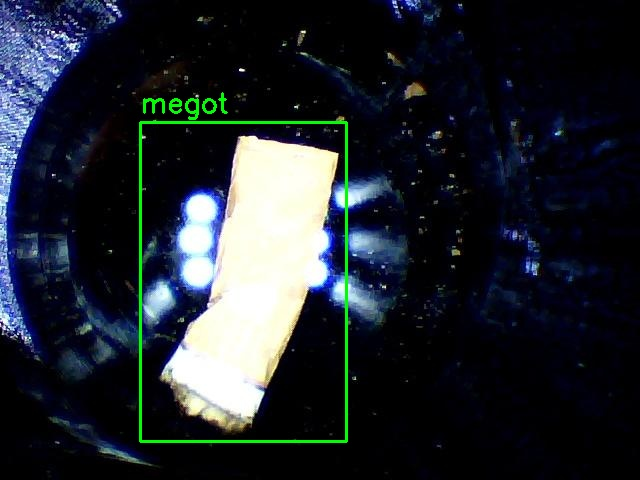megot: (140, 122, 346, 441)
